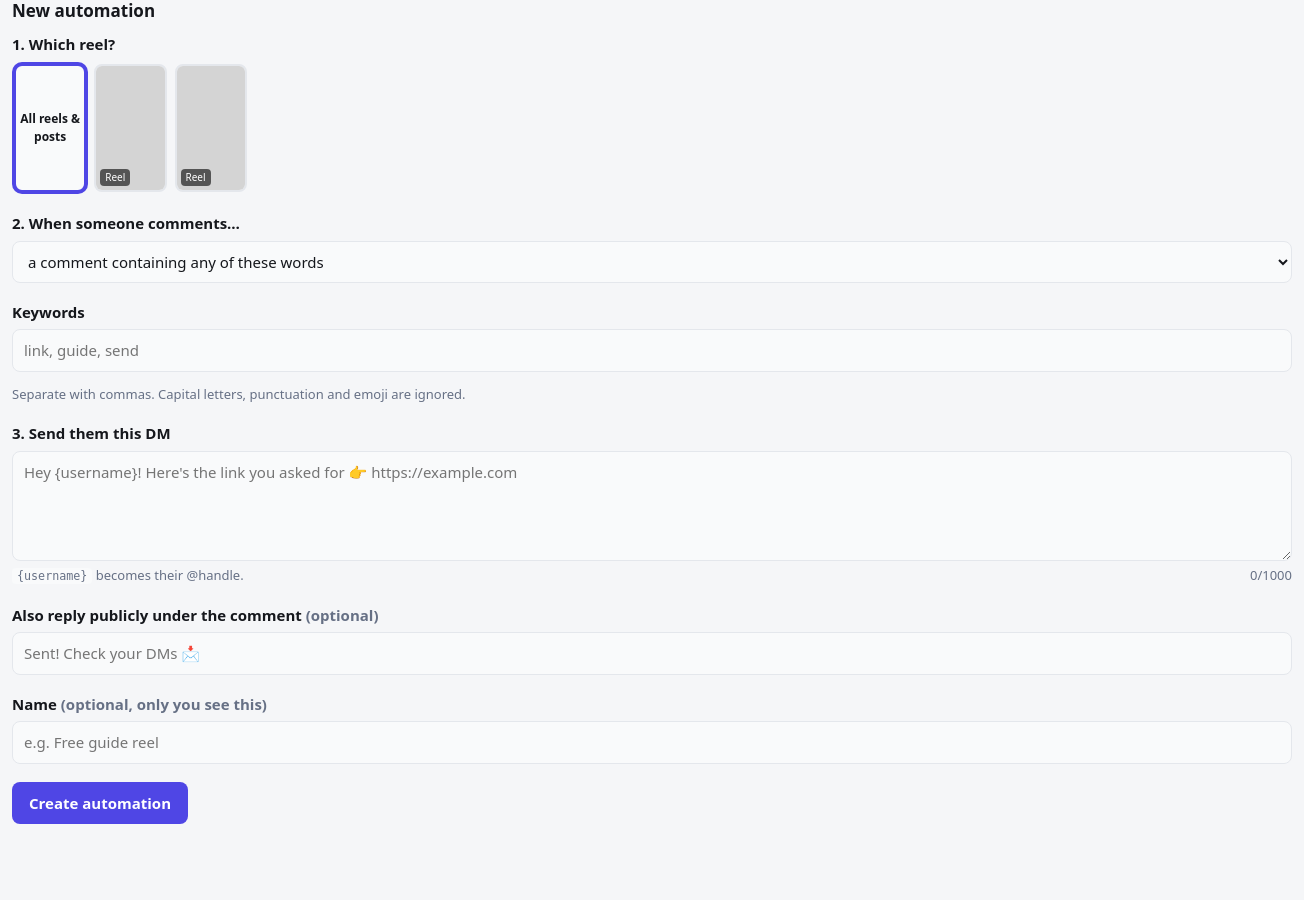
it: shows server errors
Type "link" into the field labelled "Keywords".
click(652, 350); type("link")  # box [12,329,1292,372]
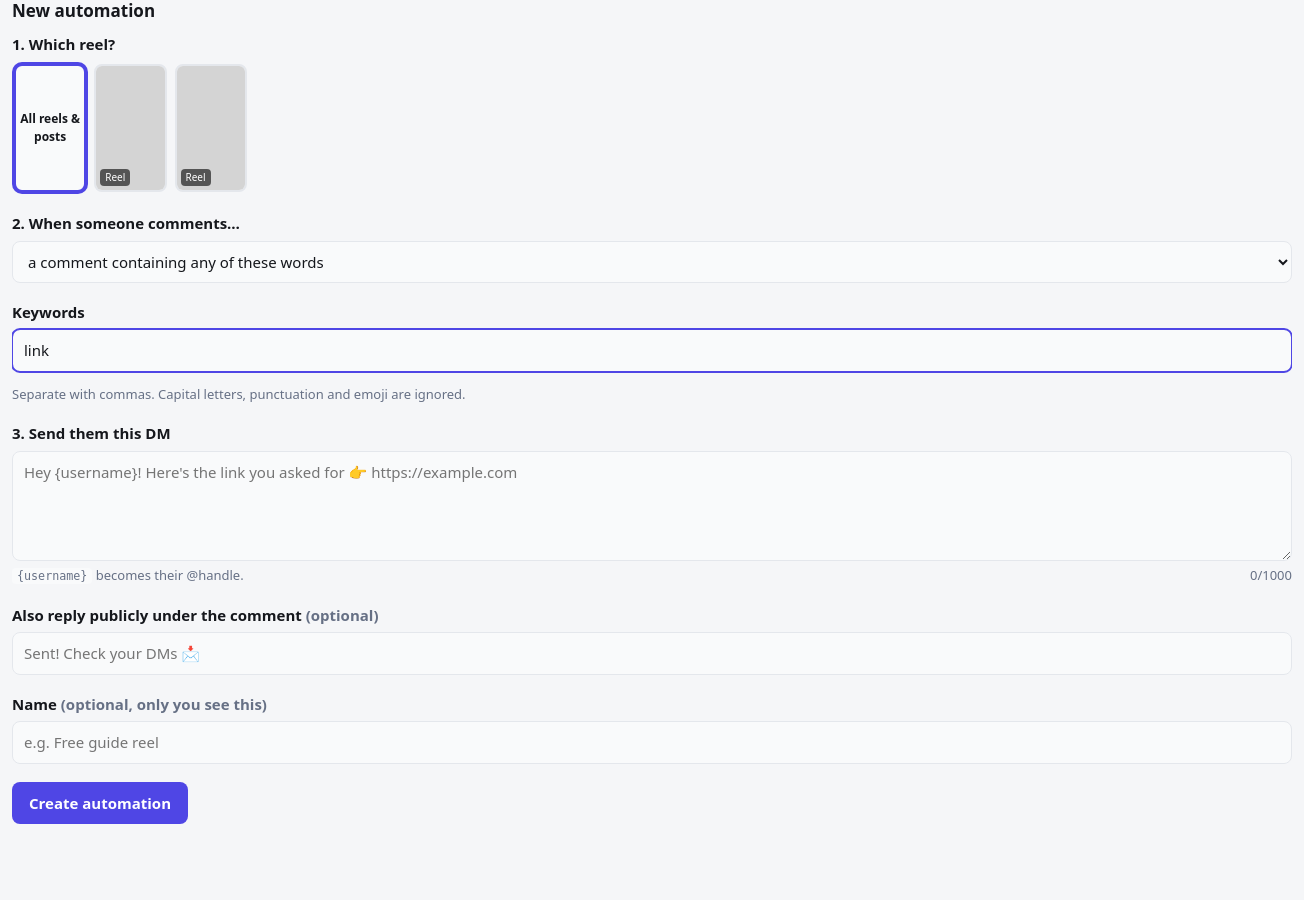
Type "hi" into the text box labelled "3. Send them this DM".
click(652, 506); type("hi")  # box [12,451,1292,561]
(page scrolled)
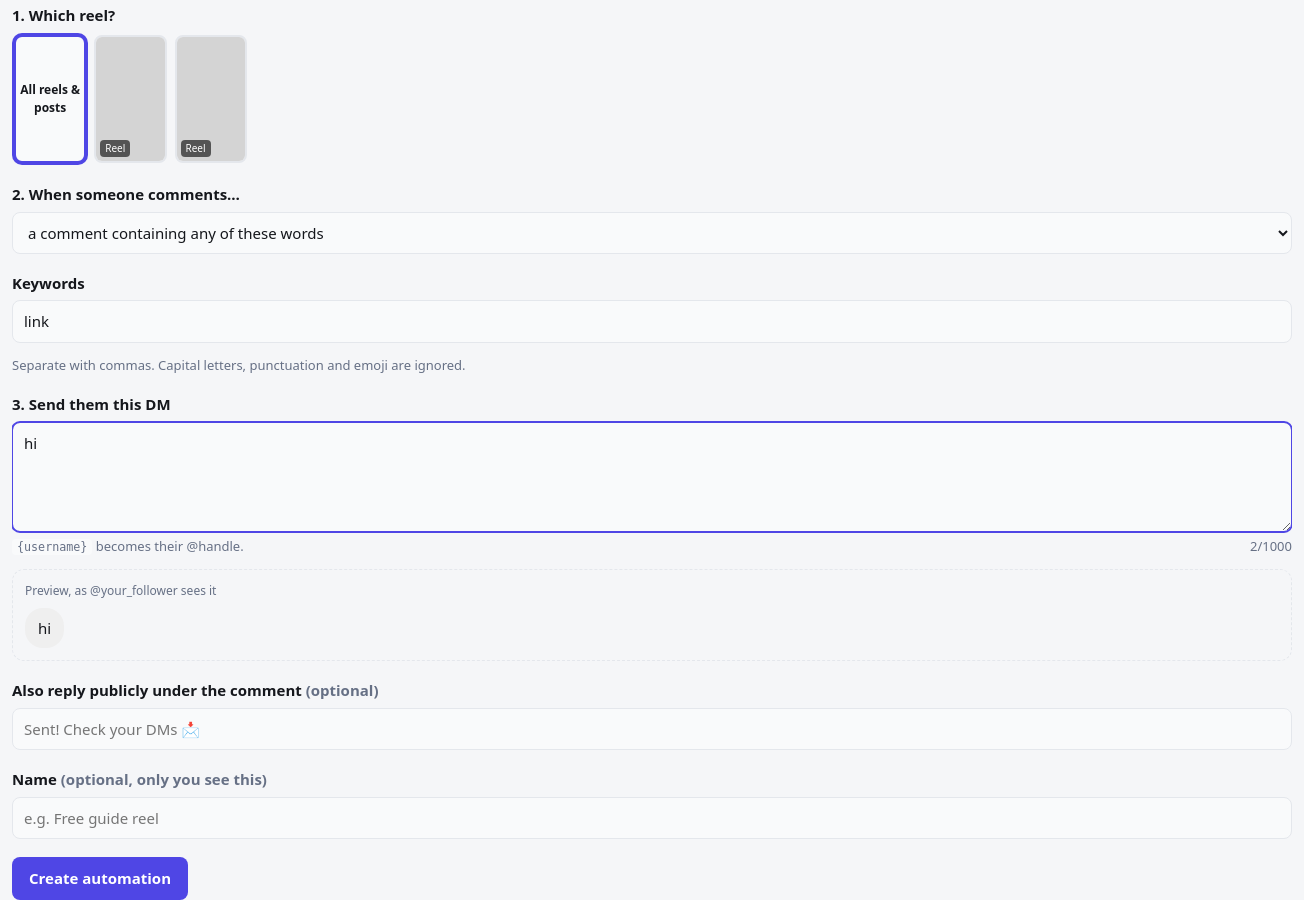
Click the button "Create automation".
click(100, 878)  # box [12,857,188,899]
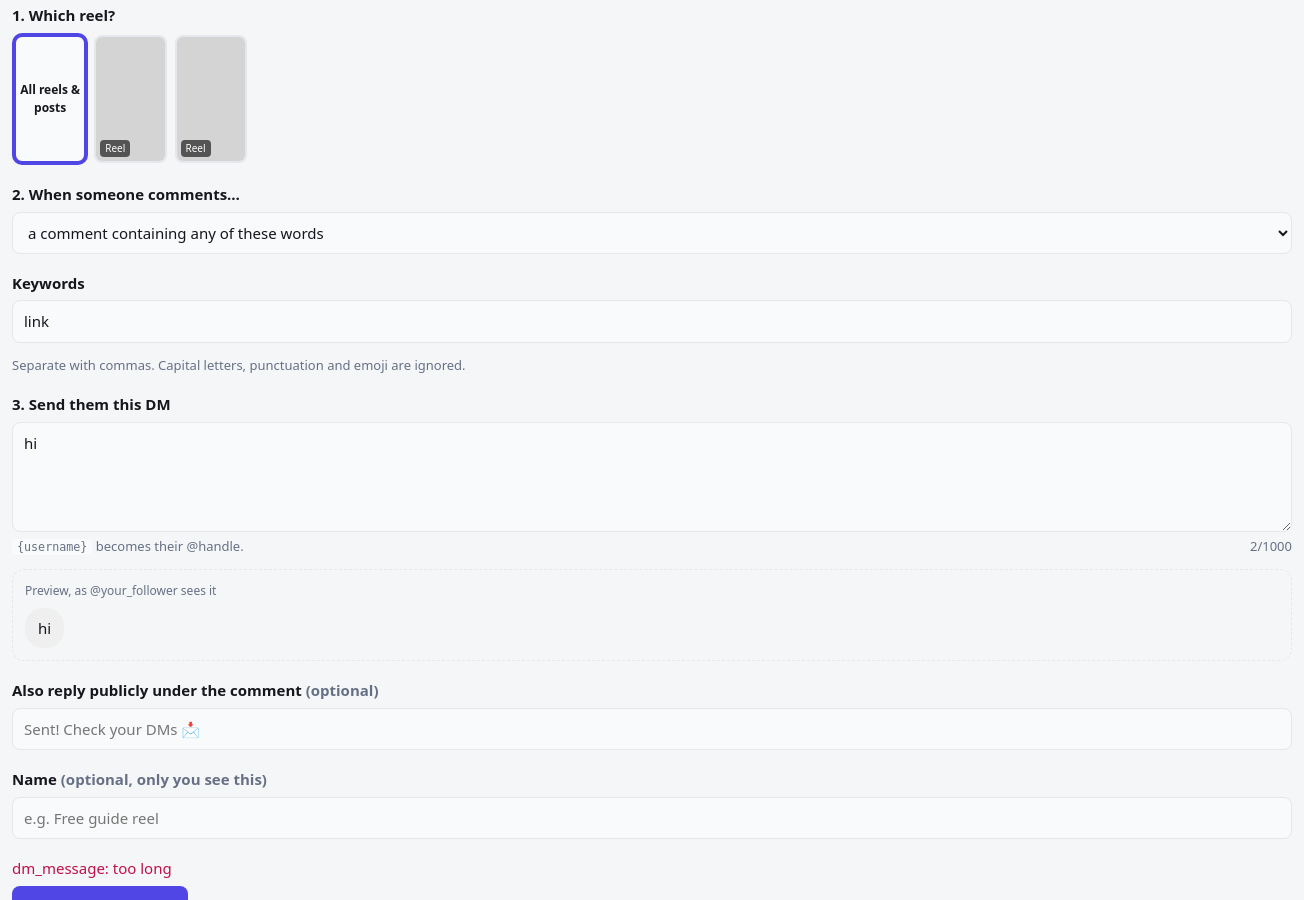
Check: the message reads "dm_message: too long", box [12,858,172,878]
